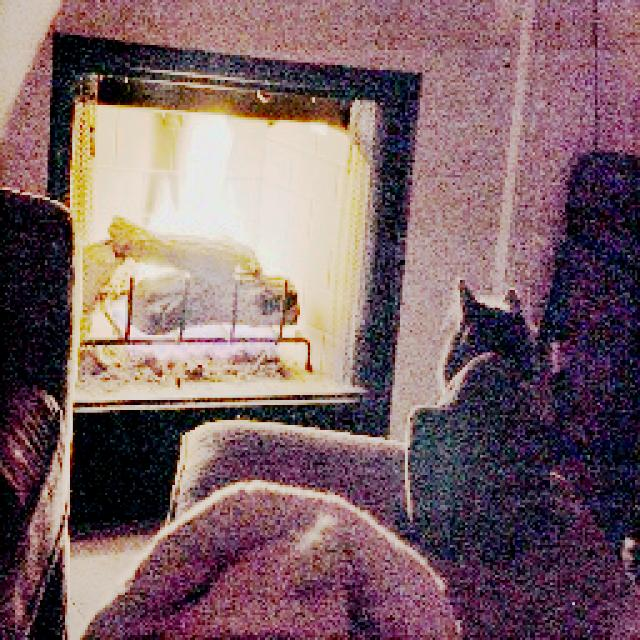cat: (384, 276, 592, 516)
